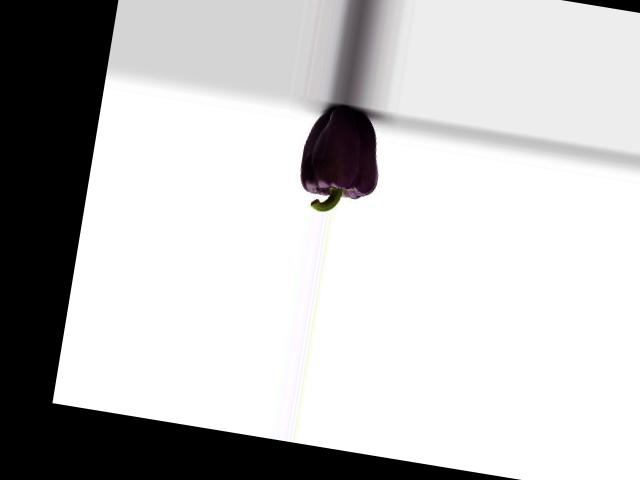bell_pepper: (285, 101, 394, 219)
